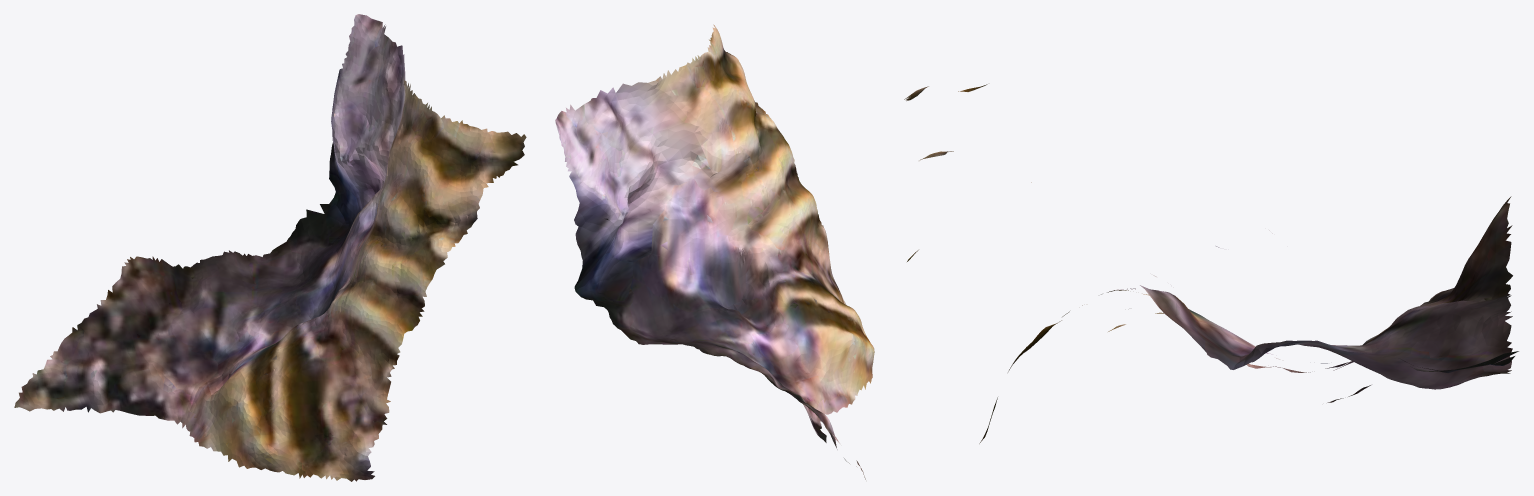
Rendered from tile_0190.gltf.
The picture shows the model from 3 angles, left to right: view 1: azimuth 30°, elevation 25°; view 2: azimuth 150°, elevation 25°; view 3: azimuth 270°, elevation 25°; orthographic projection. The views are drawn at different scales.
Visible parts, largest first — view 1: defaultobject; view 2: defaultobject; view 3: defaultobject.
Boxes of the visible parts, x1=… form: defaultobject: x1=14, y1=14, x2=526, y2=481; defaultobject: x1=555, y1=24, x2=874, y2=479; defaultobject: x1=904, y1=84, x2=1518, y2=443.
Size of the model in its own units: 0.3243 by 0.2796 by 0.271.
1 material, 1 textured.
